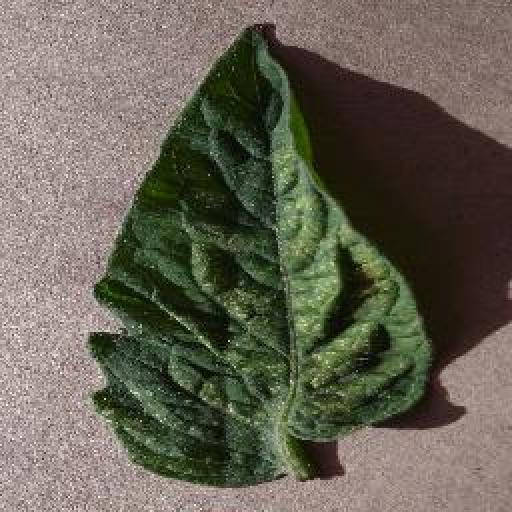Spider Mites: (90, 23, 430, 485)
